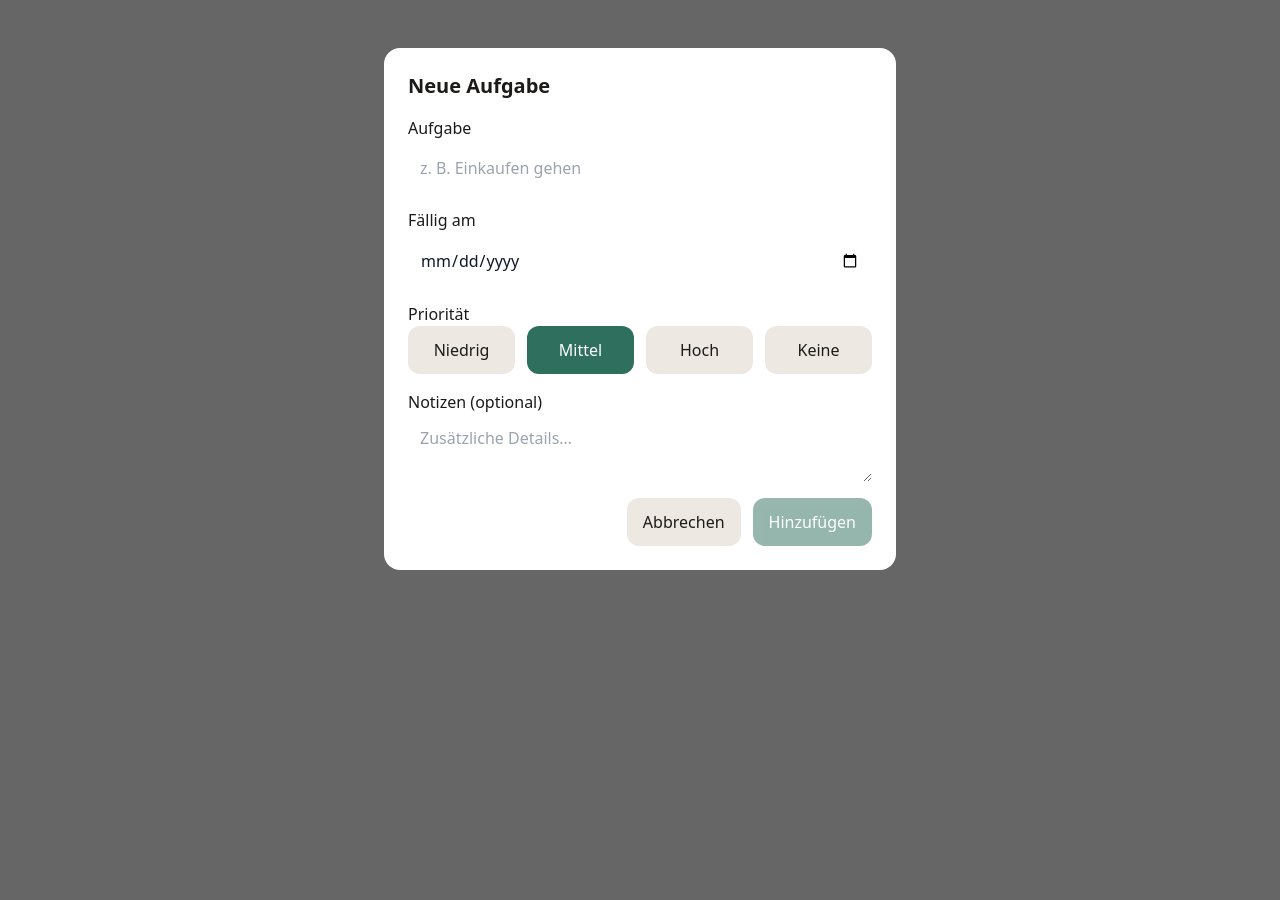
Test: TaskDialog (create) › shows an error message when saving fails
Type "Einkaufen gehen" into the field labelled "Aufgabe".
click(640, 168); type("Einkaufen gehen")  # box [408,144,872,192]
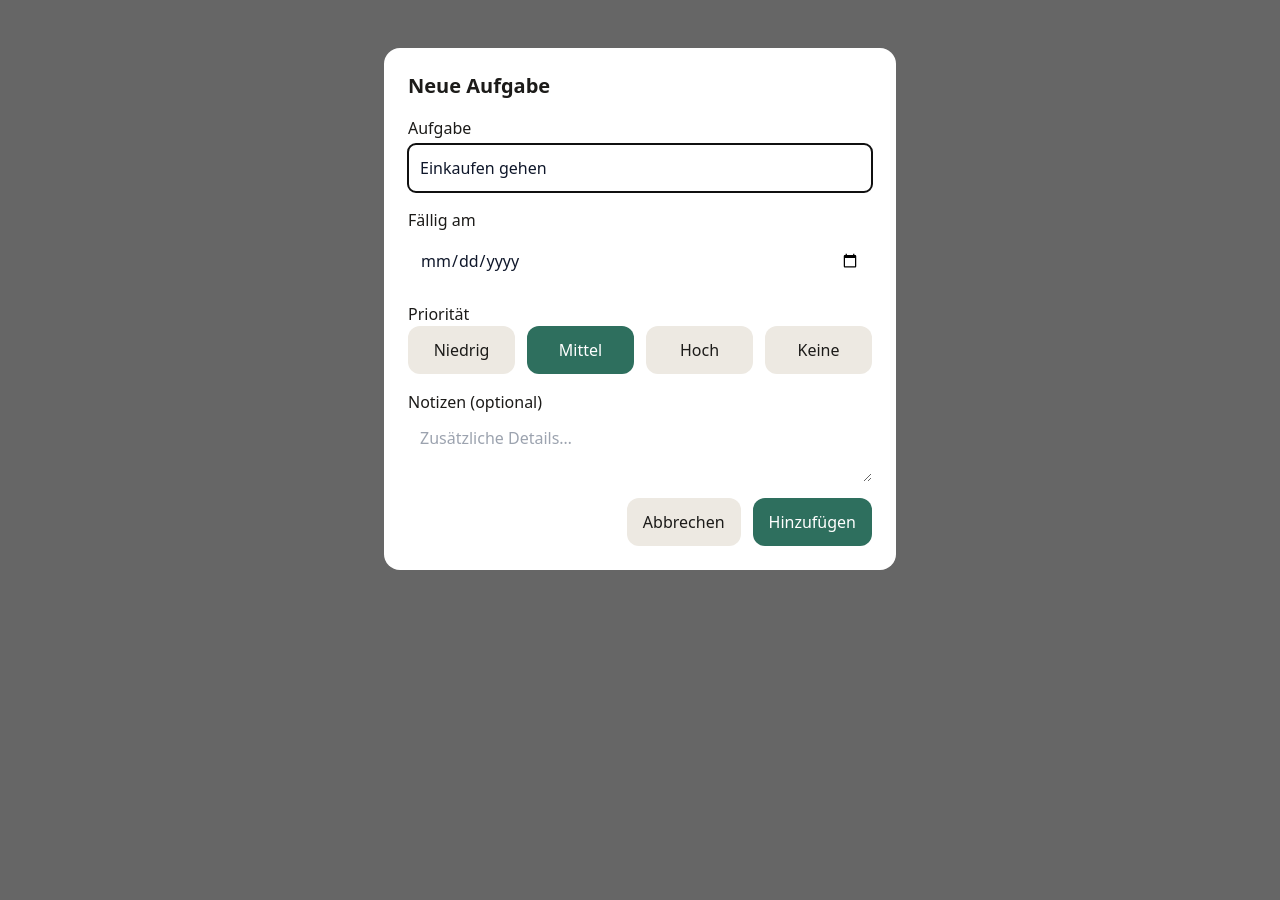
Click the button "Hinzufügen".
click(812, 522)  # box [753,498,872,546]
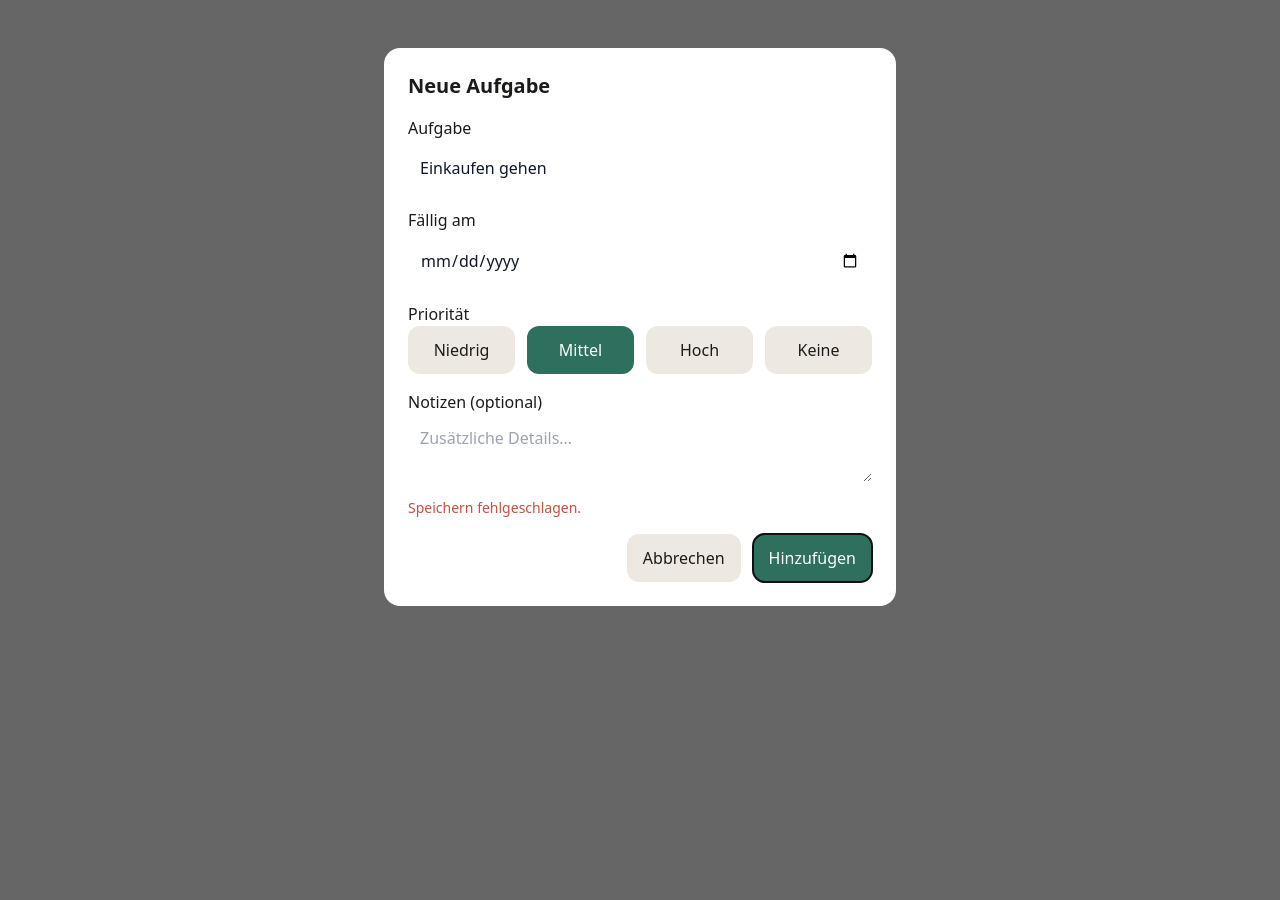
Result: the text "Speichern fehlgeschlagen." is shown at [408,498,581,517]
